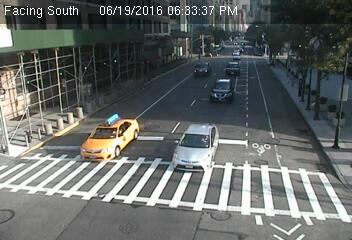neg: (290, 75, 308, 99)
